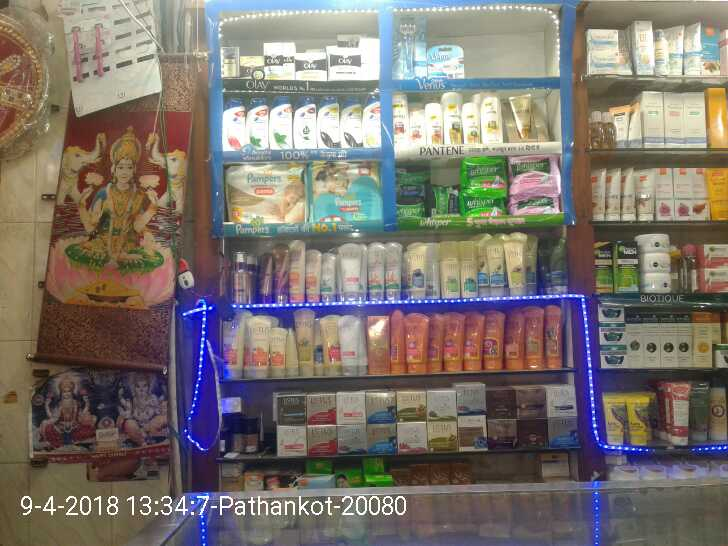venus: (392, 11, 425, 80), (427, 45, 463, 80)
